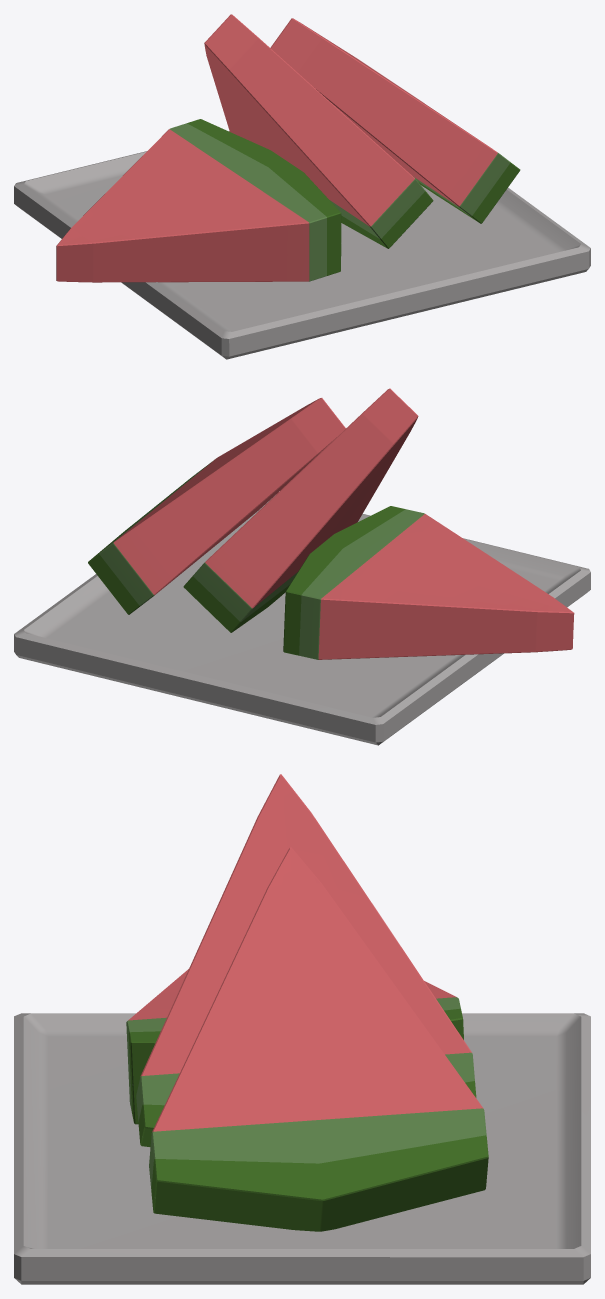
Rendered from Melon_Slices_Model.fbx.
3 views of the same model, one above another, from view 1: azimuth 30°, elevation 25°; view 2: azimuth 150°, elevation 25°; view 3: azimuth 270°, elevation 25° (orthographic). The views are drawn at different scales.
Visible parts, largest first — view 1: Tray, Melon_Slice_3, Melon_Slice_2, Melon_Slice_1; view 2: Tray, Melon_Slice_3, Melon_Slice_2, Melon_Slice_1; view 3: Tray, Melon_Slice_1, Melon_Slice_2, Melon_Slice_3.
Part boxes in pixels (x1,y1,x2,y2): Tray: [14, 131, 590, 359]; Melon_Slice_3: [56, 119, 341, 282]; Melon_Slice_2: [204, 14, 433, 248]; Melon_Slice_1: [270, 18, 520, 223]; Tray: [14, 495, 590, 745]; Melon_Slice_3: [283, 506, 574, 659]; Melon_Slice_2: [183, 388, 418, 632]; Melon_Slice_1: [88, 398, 345, 614]; Tray: [14, 1013, 590, 1284]; Melon_Slice_1: [149, 847, 488, 1231]; Melon_Slice_2: [136, 774, 476, 1147]; Melon_Slice_3: [126, 969, 463, 1124].
Bounding box in the file's own units: 18.13 × 9.79 × 15.1.
